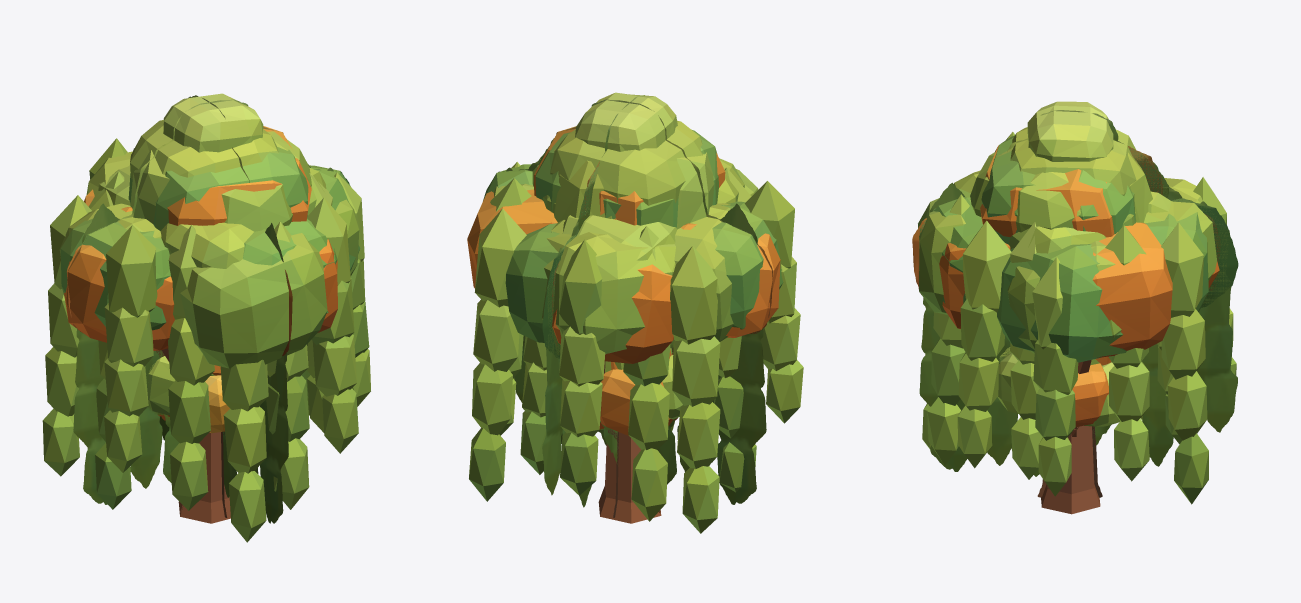
The model's file is trees.glb.
The picture shows the model from 3 angles, left to right: view 1: azimuth 30°, elevation 25°; view 2: azimuth 150°, elevation 25°; view 3: azimuth 270°, elevation 25°; orthographic projection. The views are drawn at different scales.
Parts seen in each view (by area): view 1: tree_willow_lod0, tree_round_lod0, tree_deep_lod0, tree_autumn_lod0, tree_willow_card, tree_tall_lod0, tree_small_lod0, tree_autumn_yellow_lod0, tree_autumn_card; view 2: tree_willow_lod0, tree_round_lod0, tree_autumn_lod0, tree_deep_lod0, tree_willow_card, tree_tall_lod0, tree_autumn_yellow_lod0, tree_deep_card, tree_round_card, tree_small_lod0; view 3: tree_willow_lod0, tree_autumn_lod0, tree_deep_lod0, tree_round_lod0, tree_willow_card, tree_tall_lod0, tree_deep_card, tree_autumn_yellow_lod0, tree_autumn_card, tree_small_lod0, tree_round_card.
Part boxes in pixels (box(x1,y1,x2,y2)): tree_willow_lod0: box(42, 120, 370, 542); tree_round_lod0: box(59, 131, 359, 368); tree_deep_lod0: box(60, 147, 363, 330); tree_autumn_lod0: box(64, 126, 337, 523); tree_willow_card: box(73, 140, 333, 523); tree_tall_lod0: box(163, 93, 263, 152); tree_small_lod0: box(147, 356, 214, 415); tree_autumn_yellow_lod0: box(157, 365, 229, 433); tree_autumn_card: box(67, 126, 292, 517); tree_willow_lod0: box(469, 120, 803, 533); tree_round_lod0: box(493, 126, 758, 353); tree_autumn_lod0: box(467, 126, 780, 523); tree_deep_lod0: box(483, 130, 783, 342); tree_willow_card: box(506, 140, 766, 507); tree_tall_lod0: box(542, 92, 677, 347); tree_autumn_yellow_lod0: box(600, 349, 673, 435); tree_deep_card: box(498, 163, 760, 517); tree_round_card: box(544, 138, 722, 517); tree_small_lod0: box(600, 348, 682, 429); tree_willow_lod0: box(922, 127, 1236, 504); tree_autumn_lod0: box(939, 145, 1219, 514); tree_deep_lod0: box(934, 135, 1208, 362); tree_round_lod0: box(918, 152, 1216, 353); tree_willow_card: box(919, 138, 1237, 476); tree_tall_lod0: box(1027, 101, 1136, 226); tree_deep_card: box(919, 148, 1238, 497); tree_autumn_yellow_lod0: box(1071, 356, 1111, 436); tree_autumn_card: box(912, 146, 1220, 497); tree_small_lod0: box(997, 352, 1119, 426); tree_round_card: box(994, 147, 1220, 497).
Size of what is drawn, in the model's own units: 7.98 by 8.03 by 7.98.
Materials: 2 (2 with a texture image).
